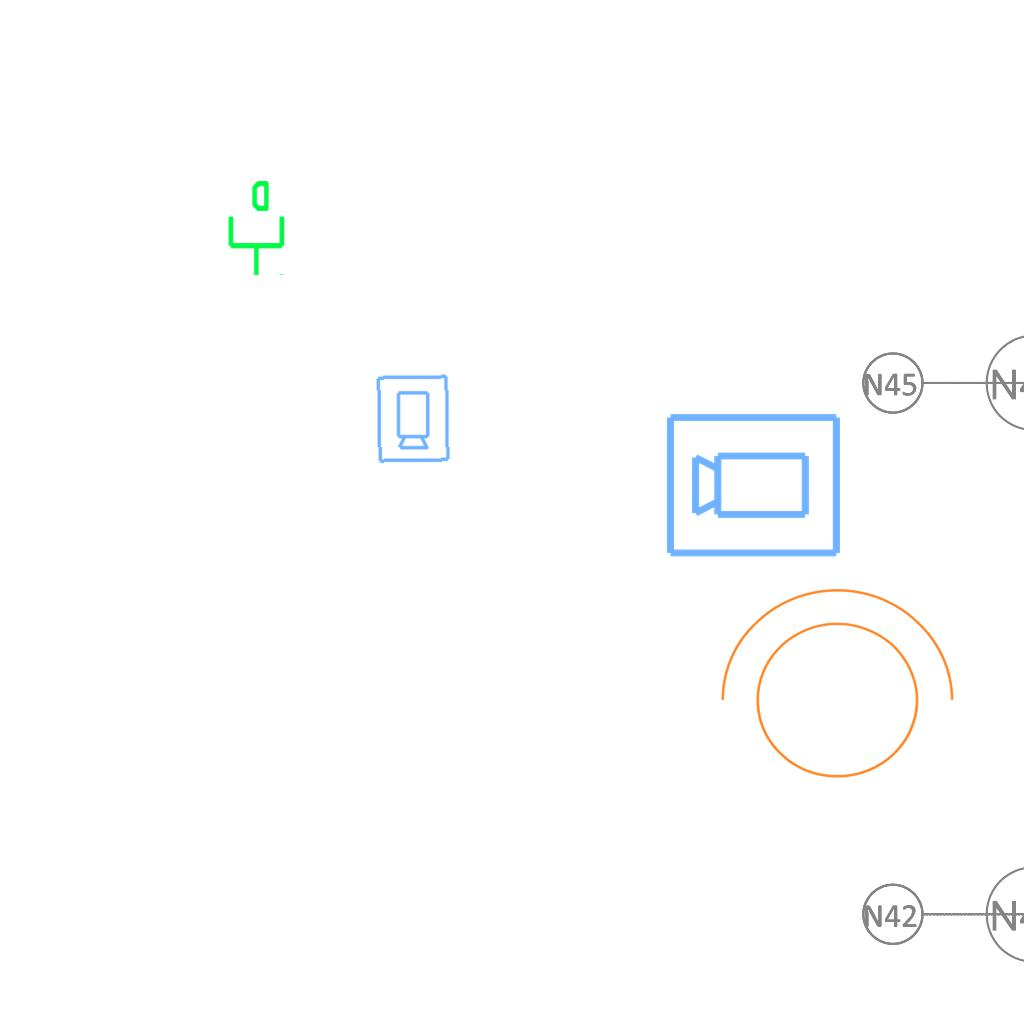Datenanschluss_einfach: (220, 178, 289, 278)
KFO_Kamera_mit_Festobjektiv: (663, 407, 845, 561), (373, 372, 452, 465)
Scheinwerfer_fuer_Alarmbeleuchtung: (699, 578, 963, 803)
